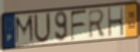9: (53, 10, 69, 44)
F: (70, 9, 88, 42)
H: (107, 5, 125, 38)
M: (14, 14, 36, 47)
R: (87, 8, 107, 40)
U: (33, 12, 52, 45)
